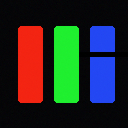3 line_h: (79, 52, 127, 56)
